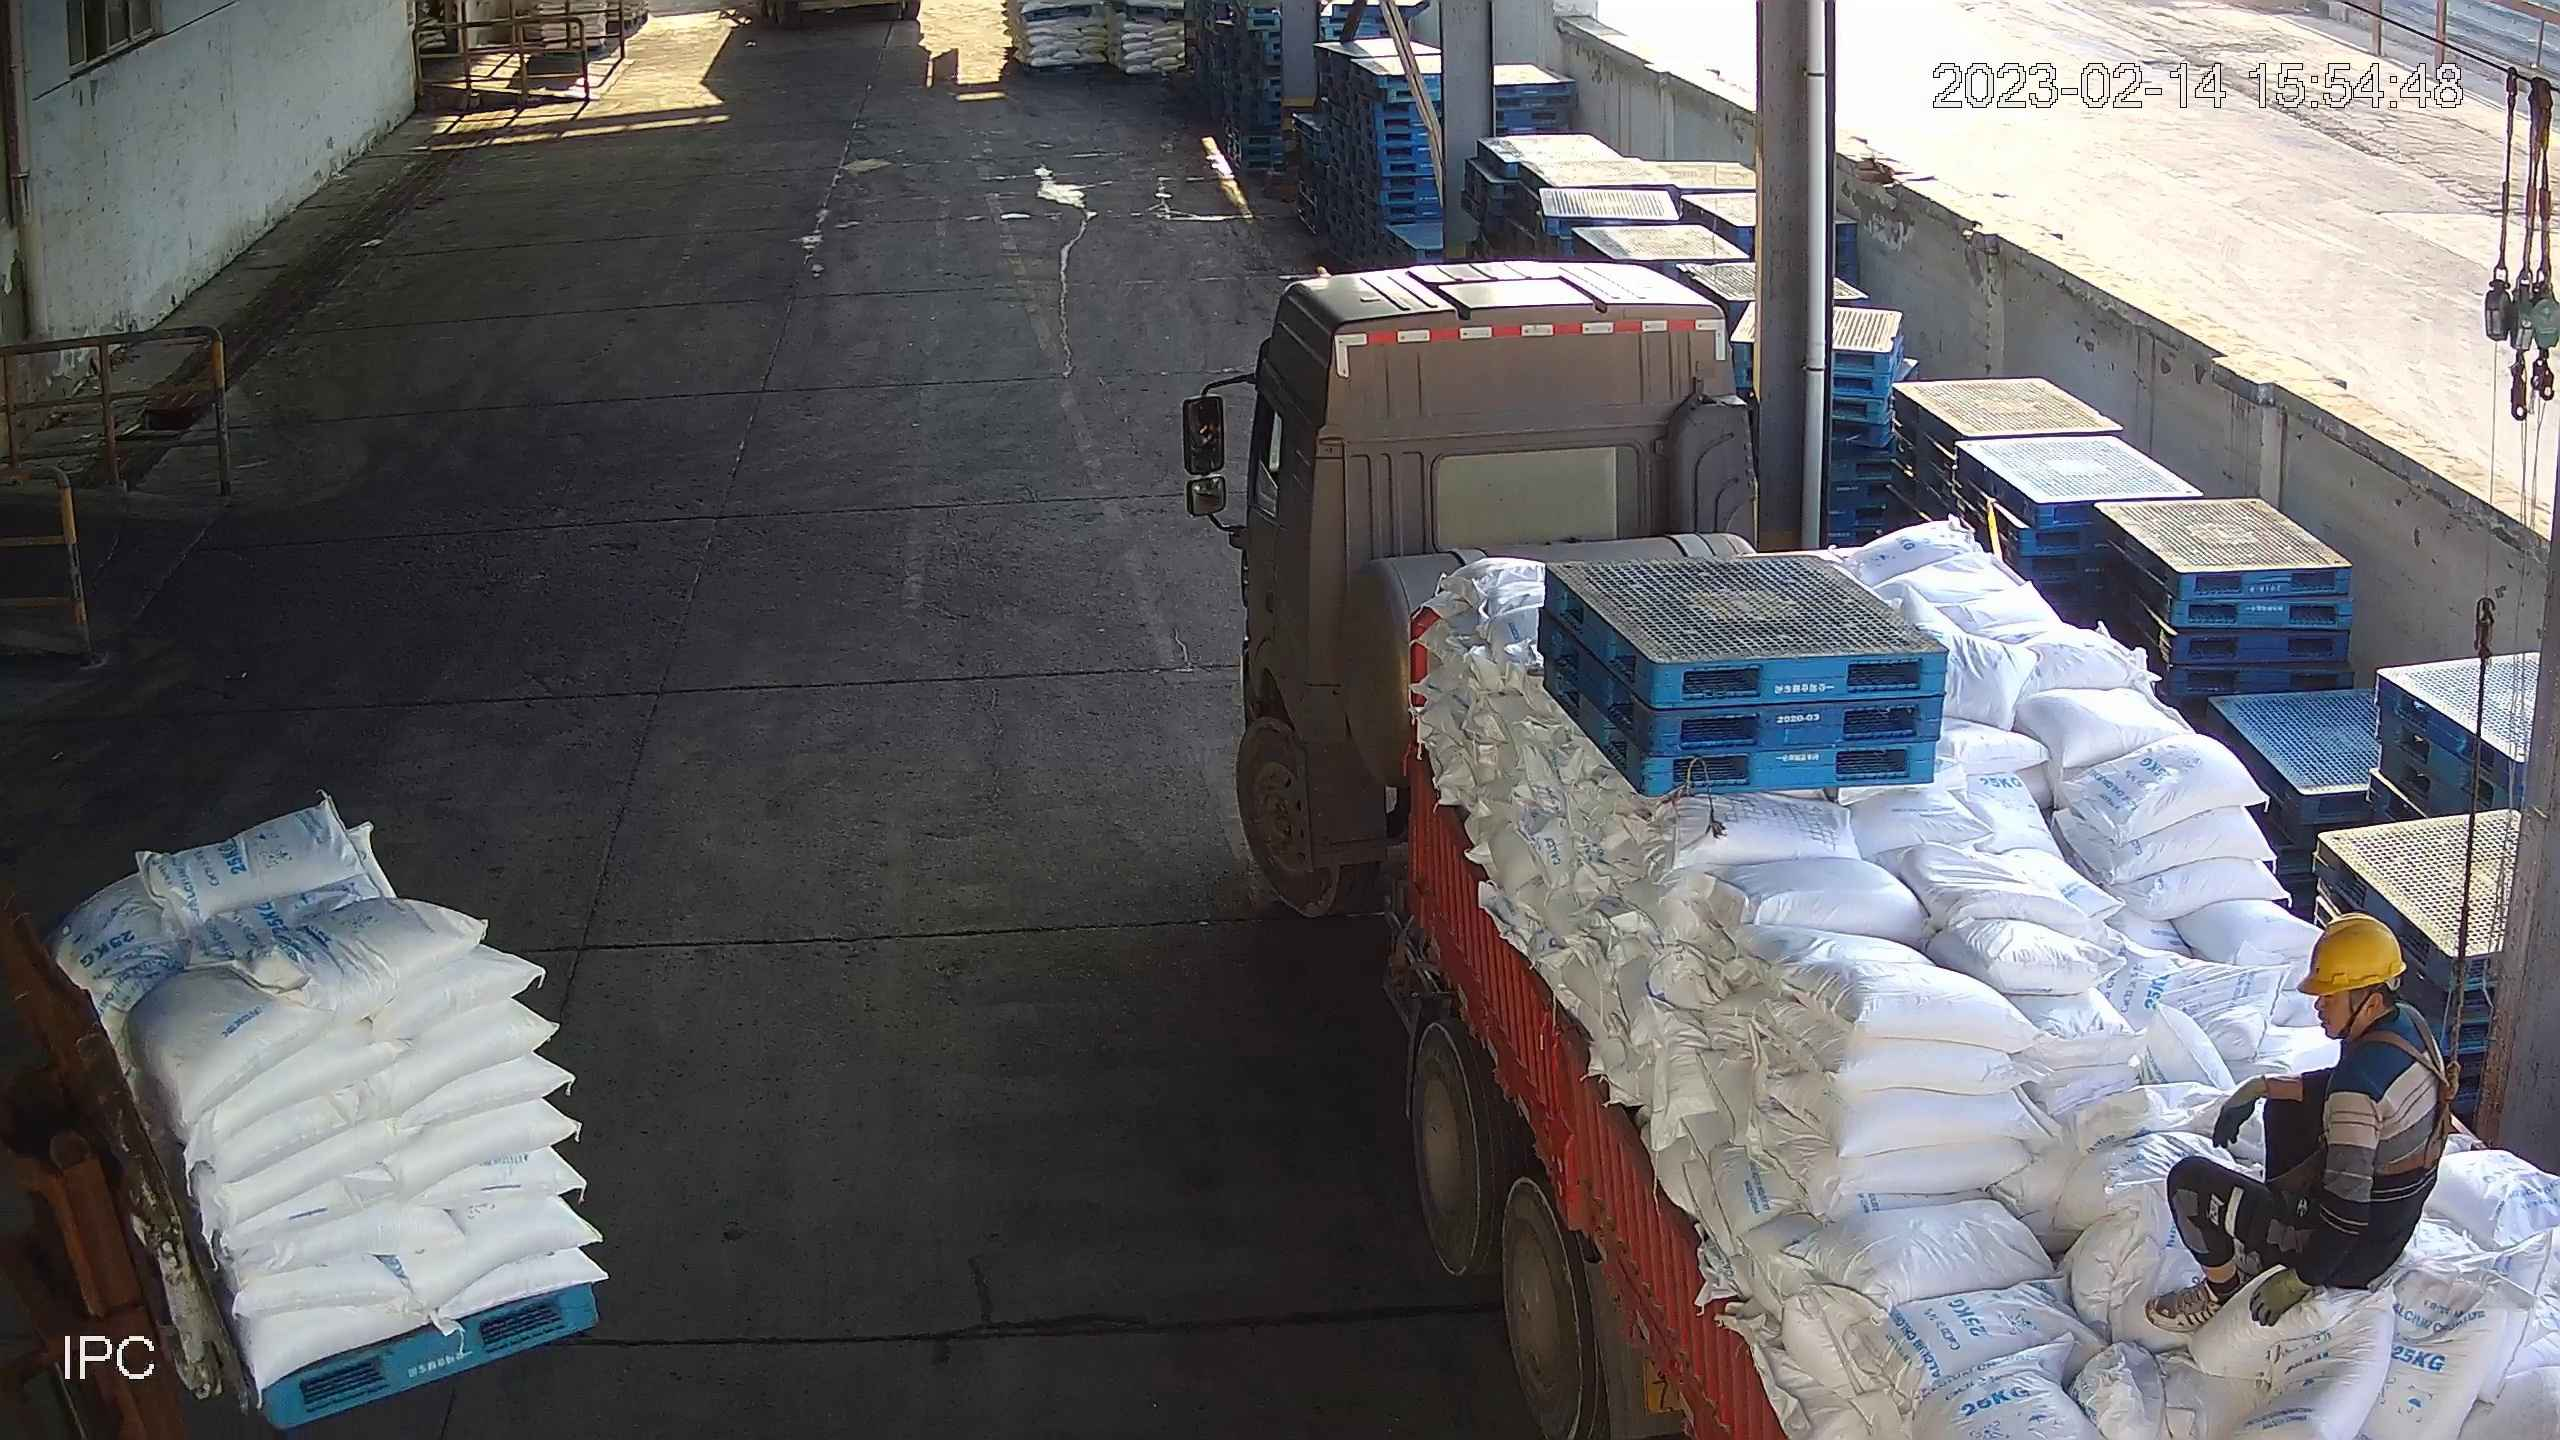belt: (2364, 1006, 2483, 1175)
head: (2231, 912, 2455, 1110)
helmet: (2305, 906, 2405, 999)
people: (2142, 919, 2462, 1334)
truck: (1198, 258, 2560, 1440)
